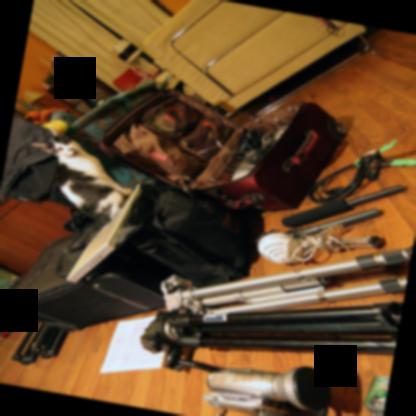suitcase: (100, 88, 345, 211), (4, 223, 180, 330), (115, 178, 263, 284)
